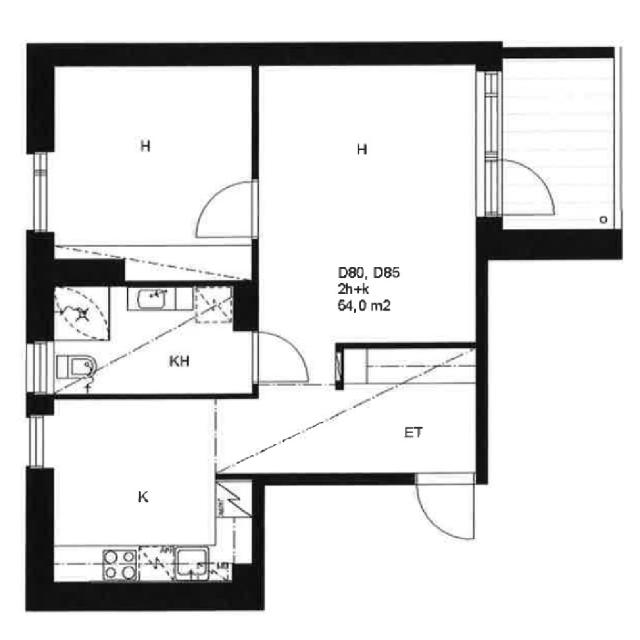door: (187, 171, 263, 245), (408, 470, 482, 544), (245, 322, 314, 388), (496, 155, 558, 224)
window: (470, 62, 513, 172), (23, 149, 56, 244), (20, 334, 55, 403), (20, 408, 52, 482), (242, 172, 268, 248)
zone: (255, 64, 480, 342), (46, 63, 258, 255), (41, 395, 223, 586), (42, 284, 246, 398), (53, 283, 108, 342)
